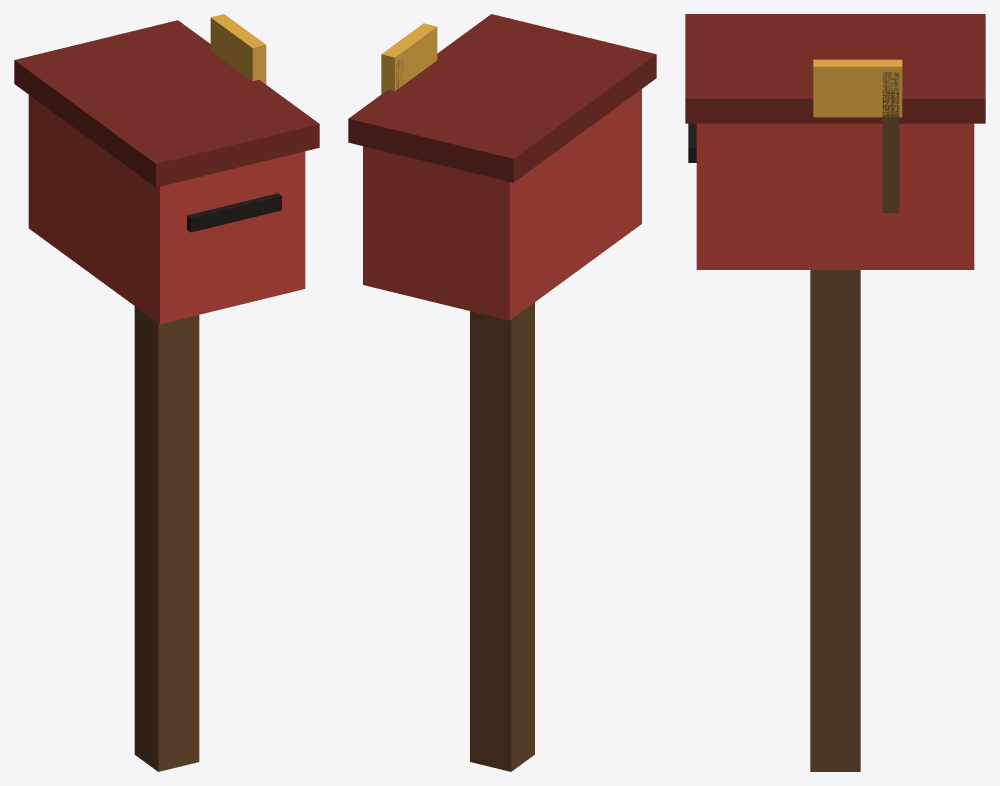
The model's file is buzon.glb.
3 renders of one model, left to right at view 1: azimuth 30°, elevation 25°; view 2: azimuth 150°, elevation 25°; view 3: azimuth 270°, elevation 25°, orthographic. The views are drawn at different scales.
Parts seen in each view (by area): view 1: buzon_caja, buzon_techo, buzon_poste, buzon_bandera, buzon_ranura; view 2: buzon_caja, buzon_techo, buzon_poste, buzon_bandera; view 3: buzon_caja, buzon_techo, buzon_poste, buzon_bandera, buzon_bandera_palo.
Boxes of the visible parts, x1=… form: buzon_caja: x1=28, y1=95, x2=305, y2=324; buzon_techo: x1=14, y1=20, x2=319, y2=187; buzon_poste: x1=134, y1=306, x2=199, y2=771; buzon_bandera: x1=210, y1=14, x2=266, y2=84; buzon_ranura: x1=187, y1=193, x2=281, y2=232; buzon_caja: x1=363, y1=89, x2=641, y2=320; buzon_techo: x1=348, y1=14, x2=656, y2=182; buzon_poste: x1=470, y1=302, x2=534, y2=771; buzon_bandera: x1=381, y1=23, x2=437, y2=94; buzon_caja: x1=696, y1=123, x2=974, y2=269; buzon_techo: x1=685, y1=14, x2=985, y2=123; buzon_poste: x1=810, y1=270, x2=860, y2=771; buzon_bandera: x1=813, y1=59, x2=902, y2=117; buzon_bandera_palo: x1=882, y1=72, x2=899, y2=212.
Bounding box in the file's own units: 0.375 × 1.47 × 0.54.
